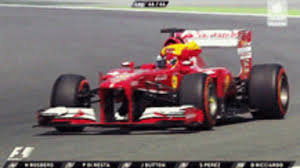FormulaOneCar: (32, 24, 295, 137)
